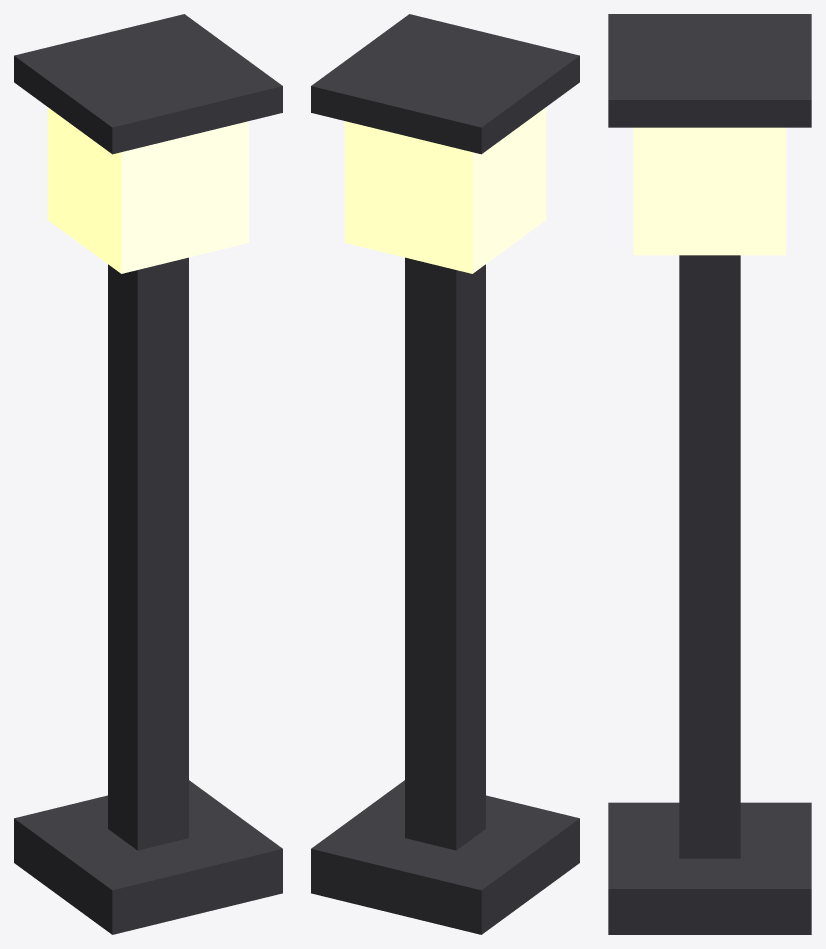
File: lantern.glb
3 views of the same model, side by side, from view 1: azimuth 30°, elevation 25°; view 2: azimuth 150°, elevation 25°; view 3: azimuth 270°, elevation 25° (orthographic). The views are drawn at different scales.
Visible parts, largest first — view 1: lantern_prop; view 2: lantern_prop; view 3: lantern_prop.
Boxes of the visible parts, left/top/right/bottom form: lantern_prop: left=14, top=14, right=282, bottom=934; lantern_prop: left=311, top=14, right=579, bottom=934; lantern_prop: left=608, top=14, right=811, bottom=934.
Size of the model in its own units: 0.4 by 1.81 by 0.4.
